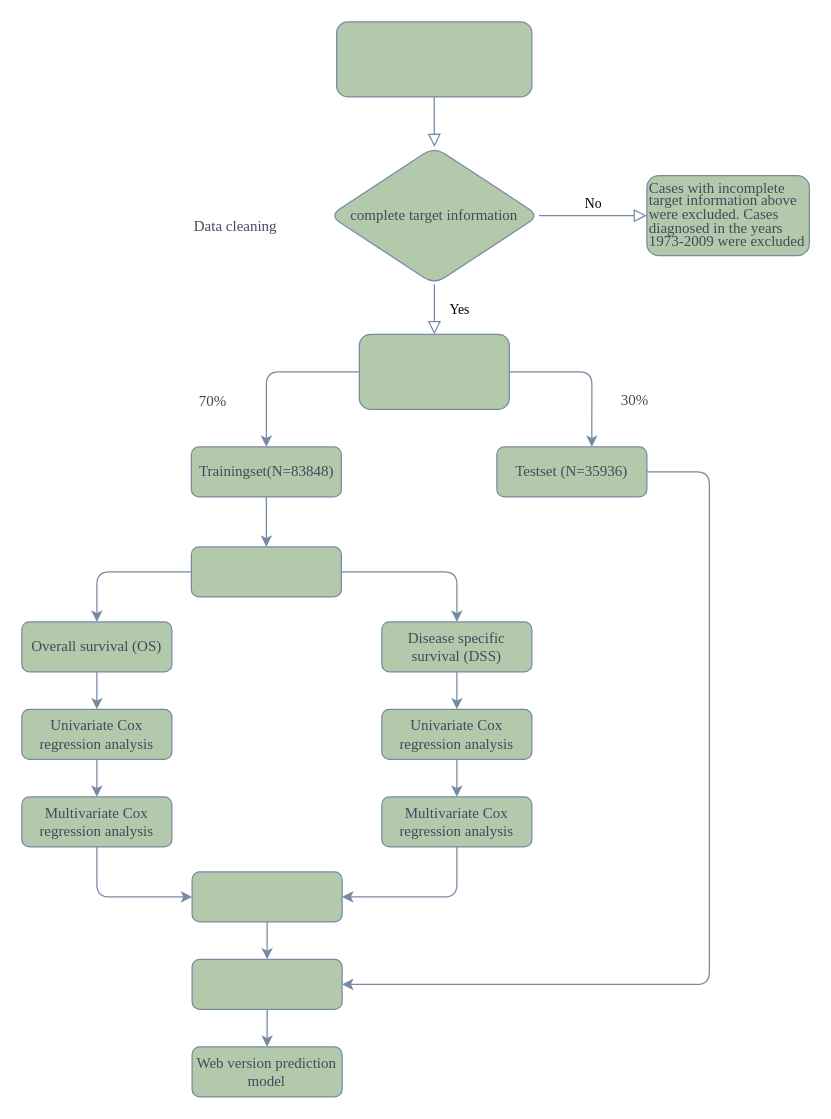
This 831x1119 diagram has some shape labels left out. The centre of each missing label's shape, as x and y in pixels:
119,784 CMM patients (2010-2015): the point at 433,371
371980 patients diagnosed with CMM between 1973 and 2015: the point at 433,59
Calibration curve C index: the point at 266,983
Nomogram of prediction model: the point at 266,896
survival analysis: the point at 265,571
